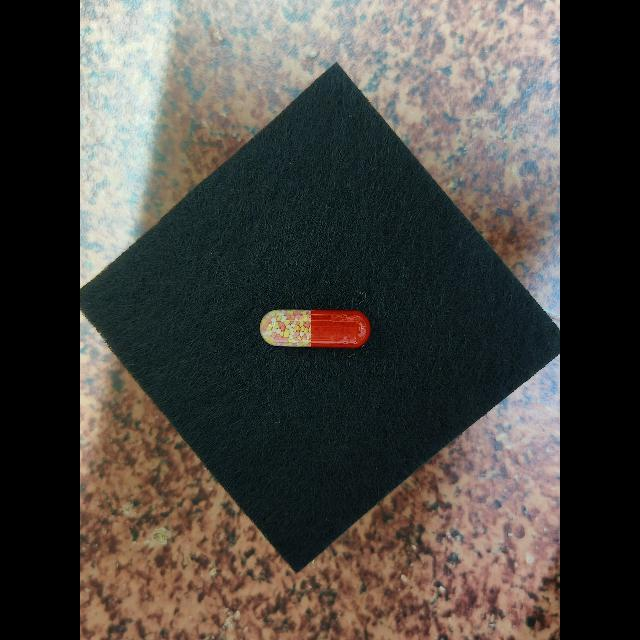Intact Capsule: (260, 309, 371, 348)
